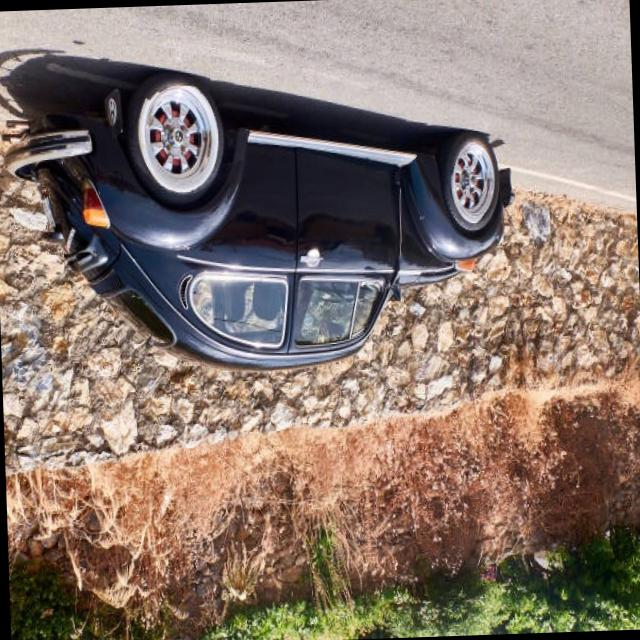car: (10, 75, 507, 380)
